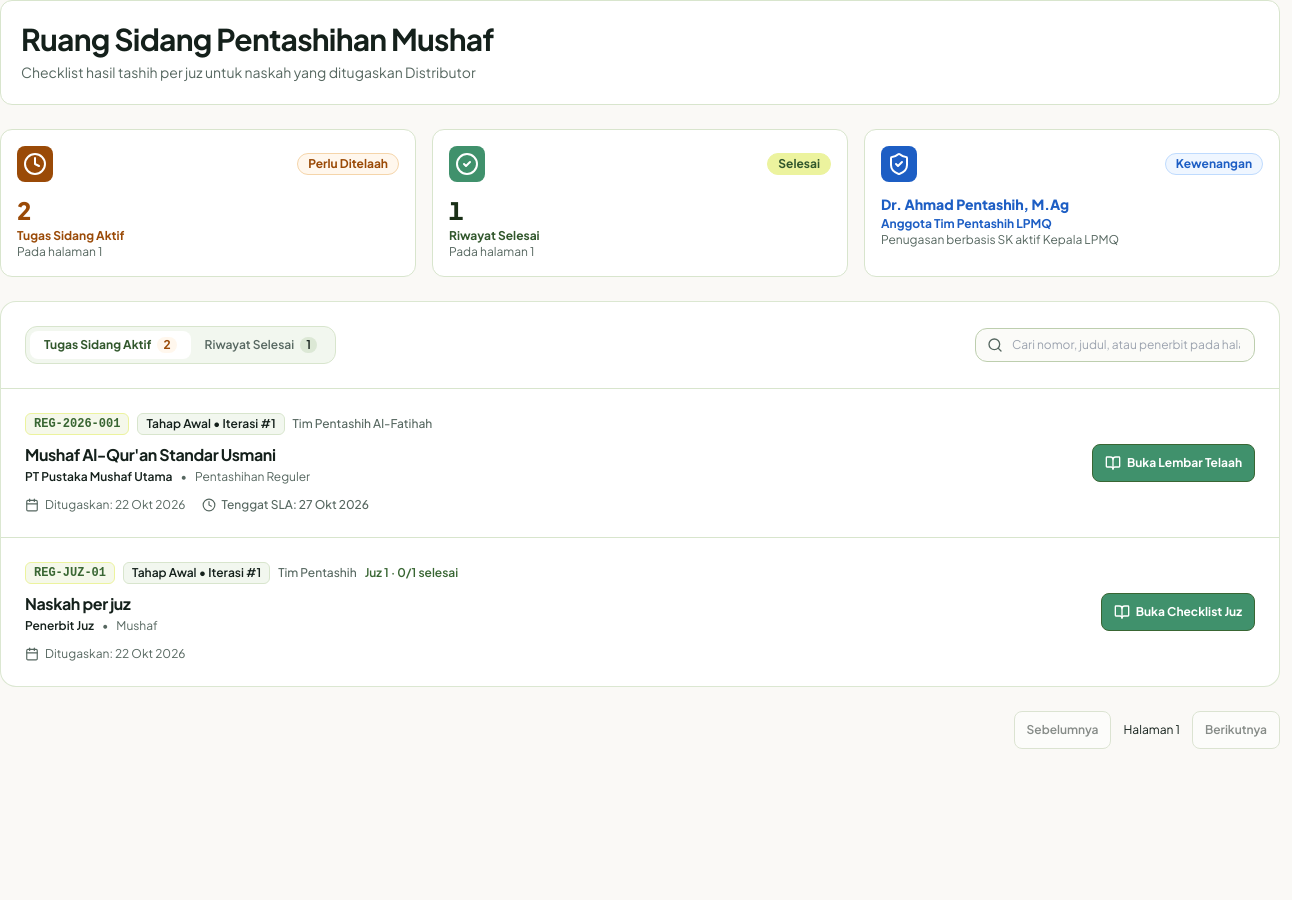
Test: PentashihWorkspacePage Component › dapat beralih ke tab riwayat selesai
The image size is (1292, 900).
Click the button "Riwayat Selesai 1": [261, 345] box [191, 331, 331, 359]
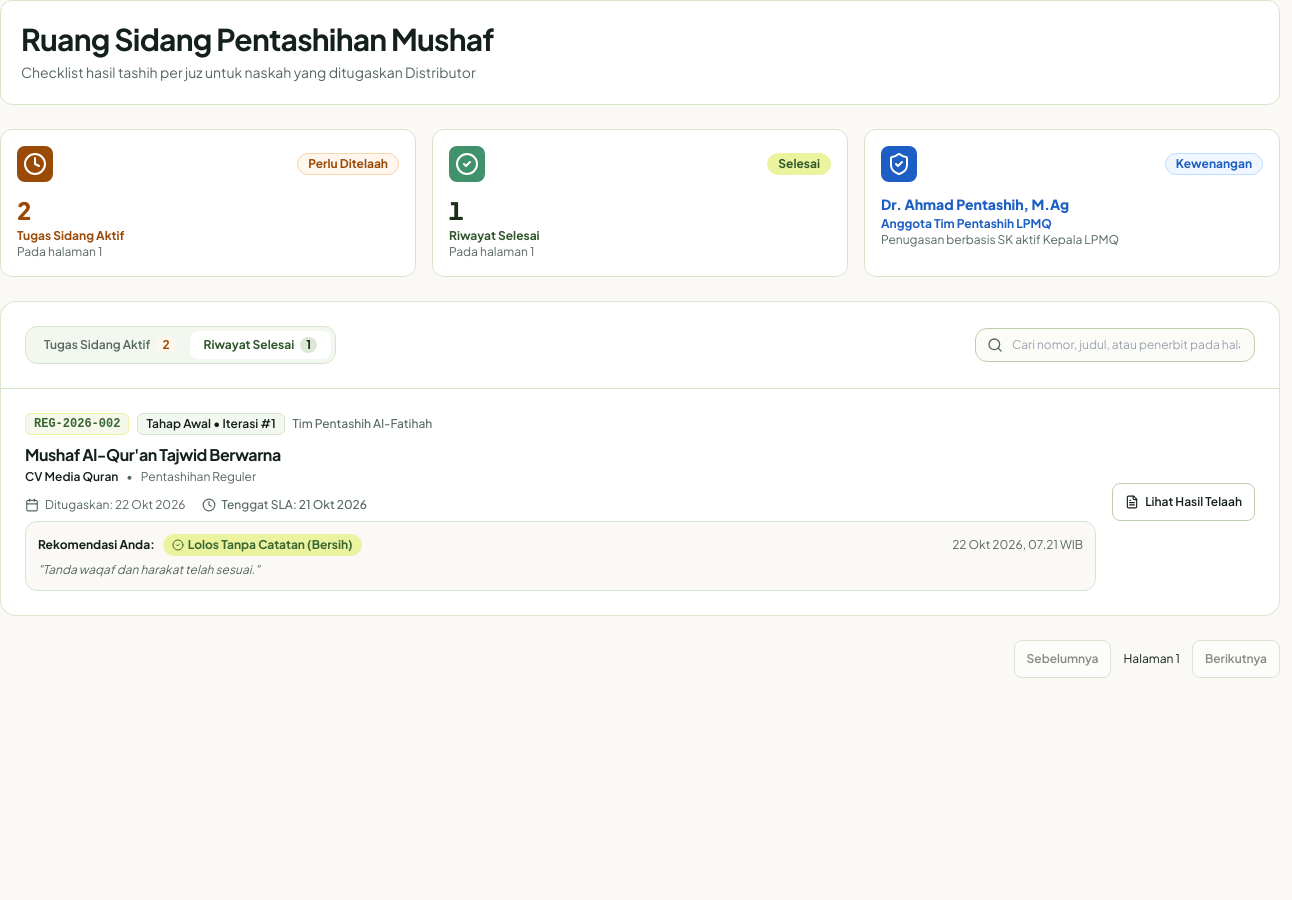
expect the text "REG-2026-002" is shown: met, box [25, 413, 129, 435]
expect the heading "Mushaf Al-Qur'an Tajwid Berwarna" is shown: met, box [25, 444, 281, 465]
expect the text "\"Tanda waqaf dan harakat telah sesuai.\"" is shown: met, box [38, 562, 260, 577]
